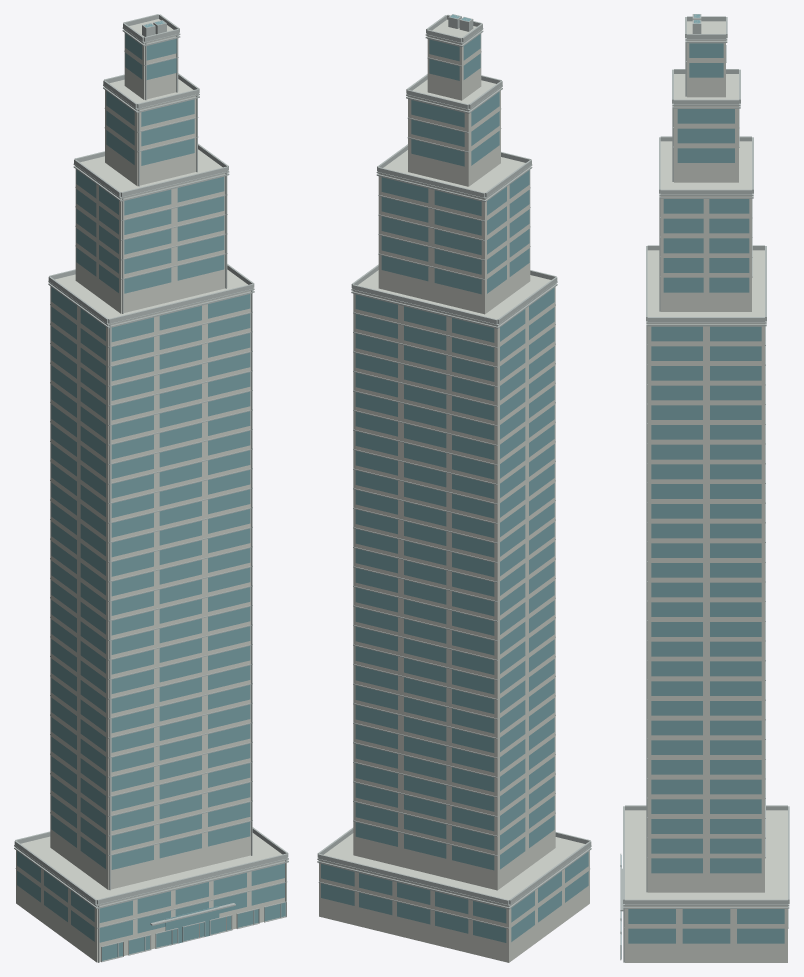
File: commercial_4x3_tower_crown.glb
3 renders of one model, left to right at view 1: azimuth 30°, elevation 25°; view 2: azimuth 150°, elevation 25°; view 3: azimuth 270°, elevation 25°, orthographic.
Visible parts, largest first — view 1: commercial_4x3_tower_crown_0; view 2: commercial_4x3_tower_crown_0; view 3: commercial_4x3_tower_crown_0.
Part boxes in pixels (x1,y1,x2,y2): commercial_4x3_tower_crown_0: (14,14,288,962); commercial_4x3_tower_crown_0: (317,14,591,962); commercial_4x3_tower_crown_0: (620,14,789,962).
Bounding box in the file's own units: 31 × 136 × 23.4.
